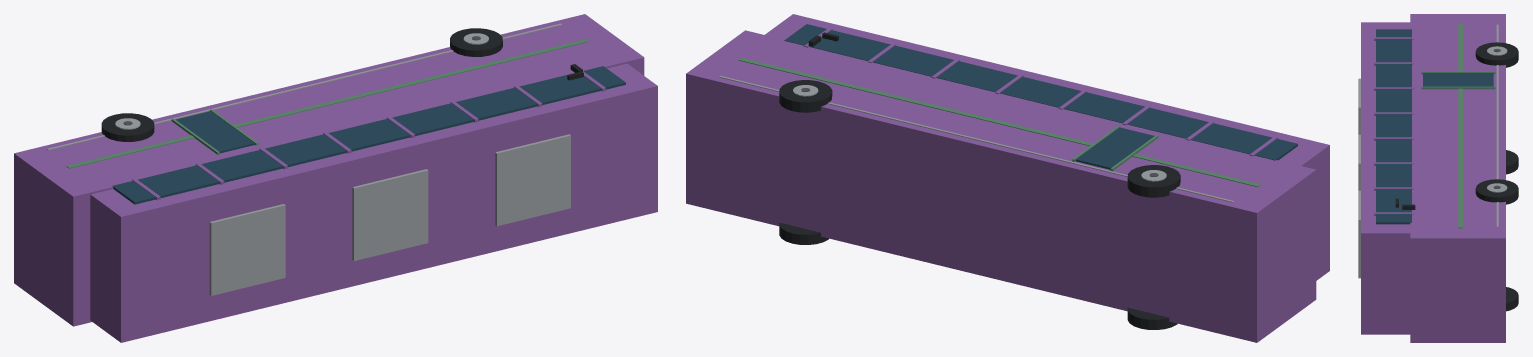
The model's file is RM_Bus_08.glb.
3 views of the same model, side by side, from view 1: azimuth 30°, elevation 25°; view 2: azimuth 150°, elevation 25°; view 3: azimuth 270°, elevation 25° (orthographic). The views are drawn at different scales.
Parts seen in each view (by area): view 1: part_001, part_000, part_002, part_038, part_037, part_039, part_013, part_040, part_014, part_024, part_030; view 2: part_000, part_002, part_001, part_013, part_040, part_024, part_030, part_014, part_021, part_027; view 3: part_000, part_001, part_002, part_040, part_013, part_030, part_024, part_014, part_042, part_039, part_021, part_027 (+5 smaller).
Part boxes in pixels (x1=…): part_001: x1=90, y1=63, x2=657, y2=342; part_000: x1=14, y1=14, x2=644, y2=326; part_002: x1=112, y1=66, x2=625, y2=204; part_038: x1=352, y1=169, x2=428, y2=260; part_037: x1=209, y1=204, x2=285, y2=295; part_039: x1=495, y1=134, x2=570, y2=226; part_013: x1=66, y1=39, x2=588, y2=168; part_040: x1=176, y1=111, x2=254, y2=153; part_014: x1=47, y1=23, x2=562, y2=150; part_024: x1=101, y1=113, x2=154, y2=141; part_030: x1=450, y1=28, x2=502, y2=56; part_000: x1=686, y1=30, x2=1316, y2=342; part_002: x1=784, y1=24, x2=1297, y2=160; part_001: x1=765, y1=14, x2=1329, y2=280; part_013: x1=738, y1=57, x2=1260, y2=187; part_040: x1=1075, y1=127, x2=1154, y2=169; part_024: x1=1127, y1=165, x2=1180, y2=197; part_030: x1=779, y1=80, x2=832, y2=112; part_014: x1=719, y1=76, x2=1234, y2=202; part_021: x1=1127, y1=307, x2=1177, y2=329; part_027: x1=779, y1=222, x2=828, y2=244; part_000: x1=1410, y1=14, x2=1505, y2=342; part_001: x1=1361, y1=22, x2=1410, y2=334; part_002: x1=1376, y1=29, x2=1411, y2=224; part_040: x1=1423, y1=73, x2=1493, y2=86; part_013: x1=1458, y1=23, x2=1462, y2=228; part_030: x1=1475, y1=179, x2=1518, y2=204; part_024: x1=1475, y1=42, x2=1518, y2=67; part_014: x1=1496, y1=24, x2=1498, y2=227; part_042: x1=1421, y1=86, x2=1495, y2=89; part_039: x1=1358, y1=190, x2=1360, y2=278; part_021: x1=1506, y1=150, x2=1518, y2=174; part_027: x1=1506, y1=287, x2=1518, y2=311.
Size of the model in its own units: 11.64 by 2.85 by 3.51.
